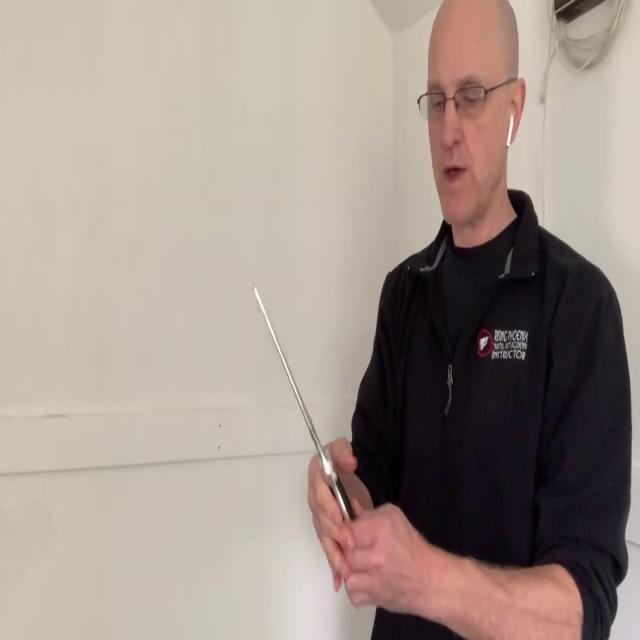Knife_Handle: (253, 284, 414, 613)
